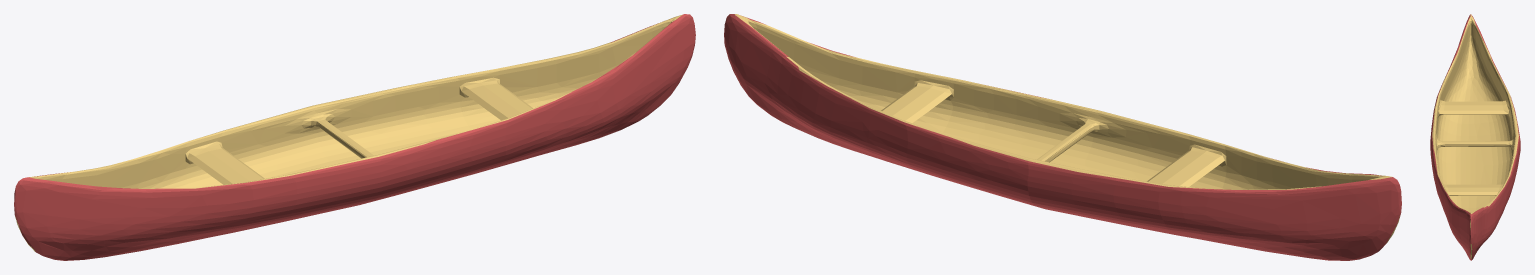
File: rowboat.glb
The picture shows the model from 3 angles, left to right: view 1: azimuth 30°, elevation 25°; view 2: azimuth 150°, elevation 25°; view 3: azimuth 270°, elevation 25°; orthographic projection. The views are drawn at different scales.
Parts seen in each view (by area): view 1: Canoe; view 2: Canoe; view 3: Canoe.
Part boxes in pixels (x1=…): Canoe: x1=14, y1=14, x2=695, y2=260; Canoe: x1=724, y1=14, x2=1401, y2=260; Canoe: x1=1430, y1=14, x2=1520, y2=260.
Size of the model in its own units: 455 by 70.78 by 83.82.
